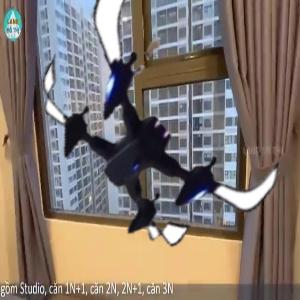drone: (24, 3, 291, 270)
